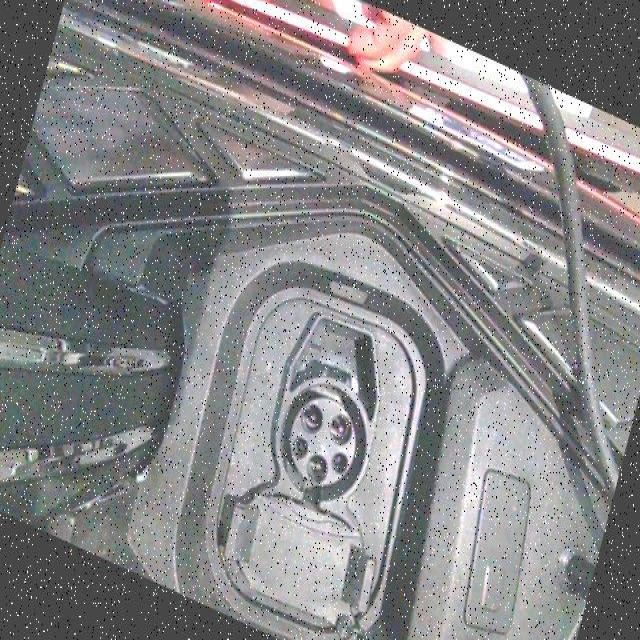Type 1: (270, 365, 391, 504)
